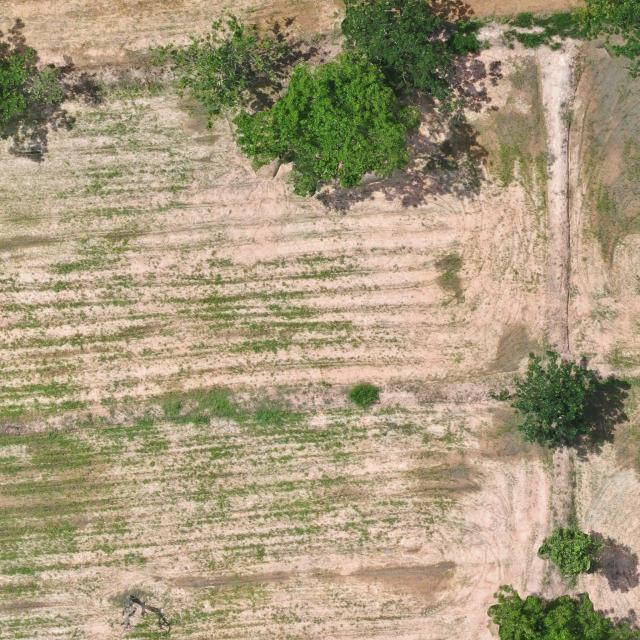Tree: (233, 50, 420, 198), (167, 11, 293, 114), (339, 0, 456, 102), (493, 348, 599, 449), (485, 581, 640, 640), (0, 45, 67, 127), (536, 525, 605, 578)
